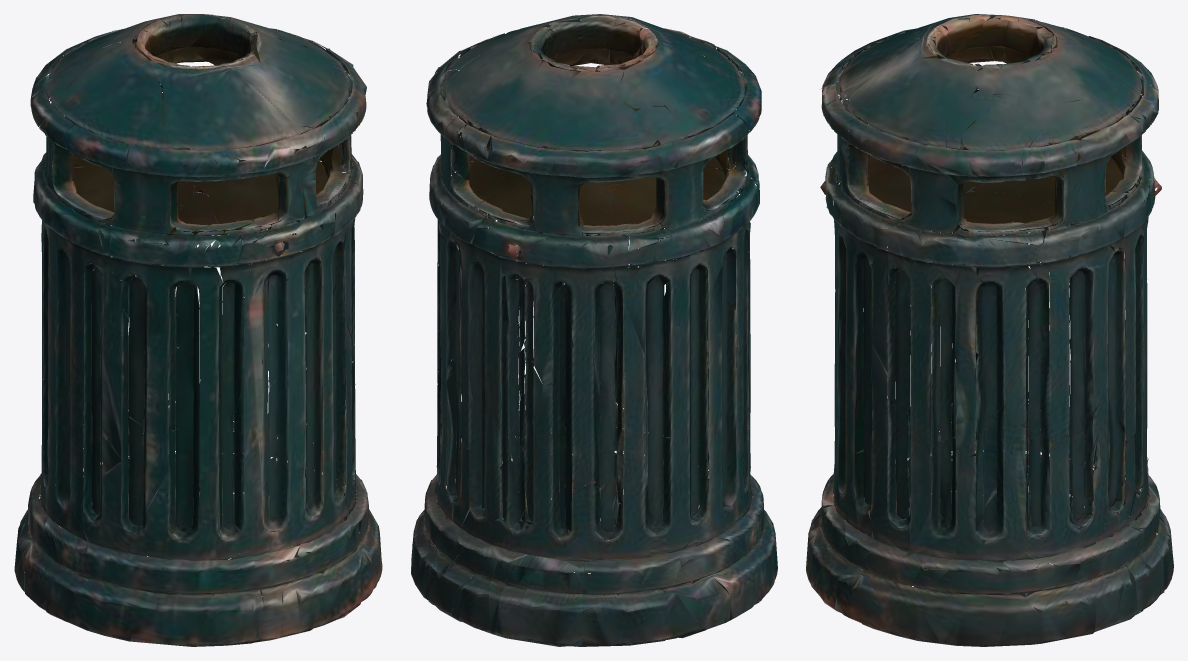
File: base_basic_pbr.glb
The picture shows the model from 3 angles, left to right: view 1: azimuth 30°, elevation 25°; view 2: azimuth 150°, elevation 25°; view 3: azimuth 270°, elevation 25°; orthographic projection.
Parts seen in each view (by area): view 1: model; view 2: model; view 3: model.
Boxes of the visible parts, x1=… form: model: x1=14, y1=14, x2=382, y2=646; model: x1=411, y1=14, x2=777, y2=646; model: x1=806, y1=14, x2=1173, y2=646.
Bounding box in the file's own units: 1.19 × 1.91 × 1.19.
1 material, 1 textured.
